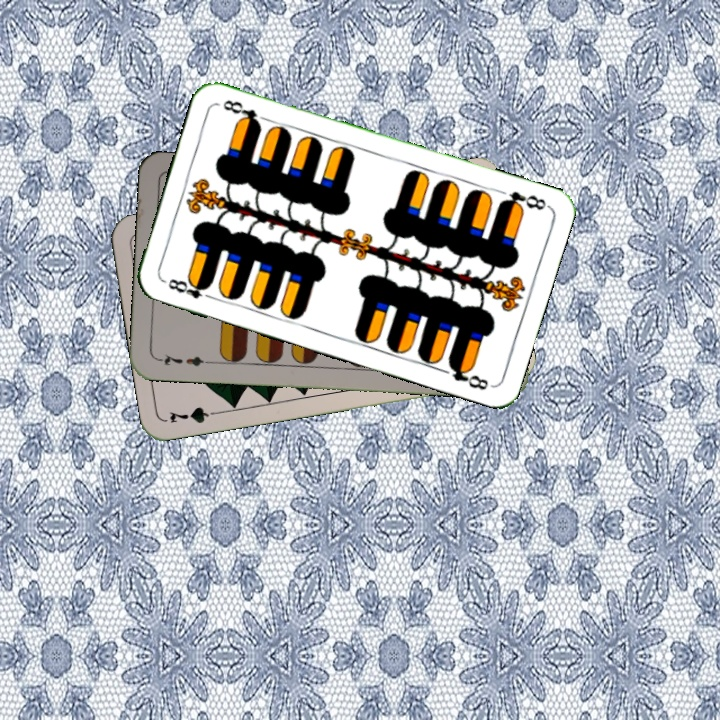E7: (154, 350, 213, 369)
E8: (160, 274, 217, 302), (495, 186, 550, 214)
G7: (165, 403, 224, 426)
